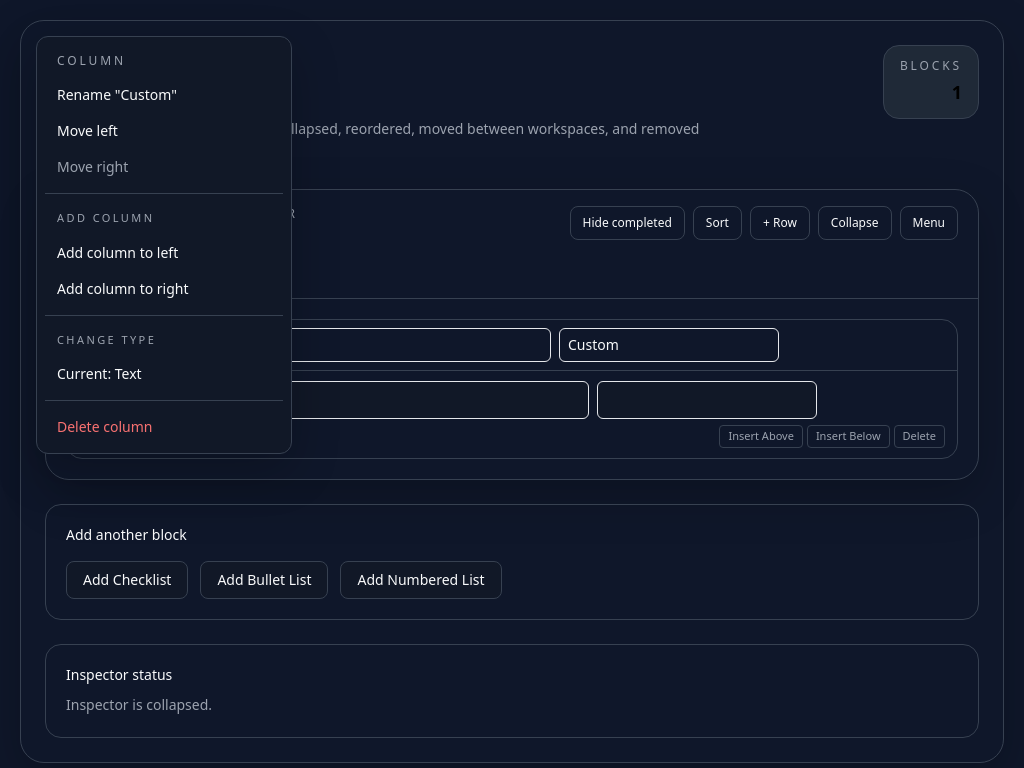
Scenario: context menu dismissal › column menu uses a backdrop so outside dismissal does not mutate column state
Press the mouse on the element with test id "column-menu-backdrop" at (512, 384), box [0, 0, 1023, 767]
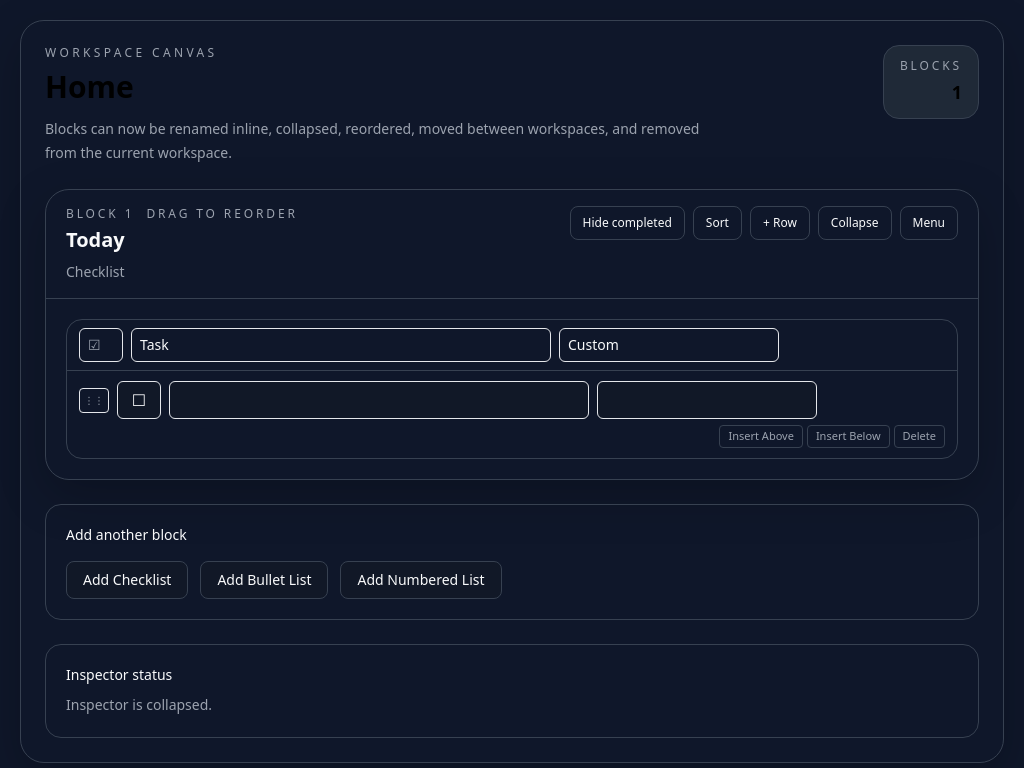
Expected: the text "Custom" is shown, [568, 335, 619, 355]
Expected: the element with test id "column-menu-backdrop" is gone
